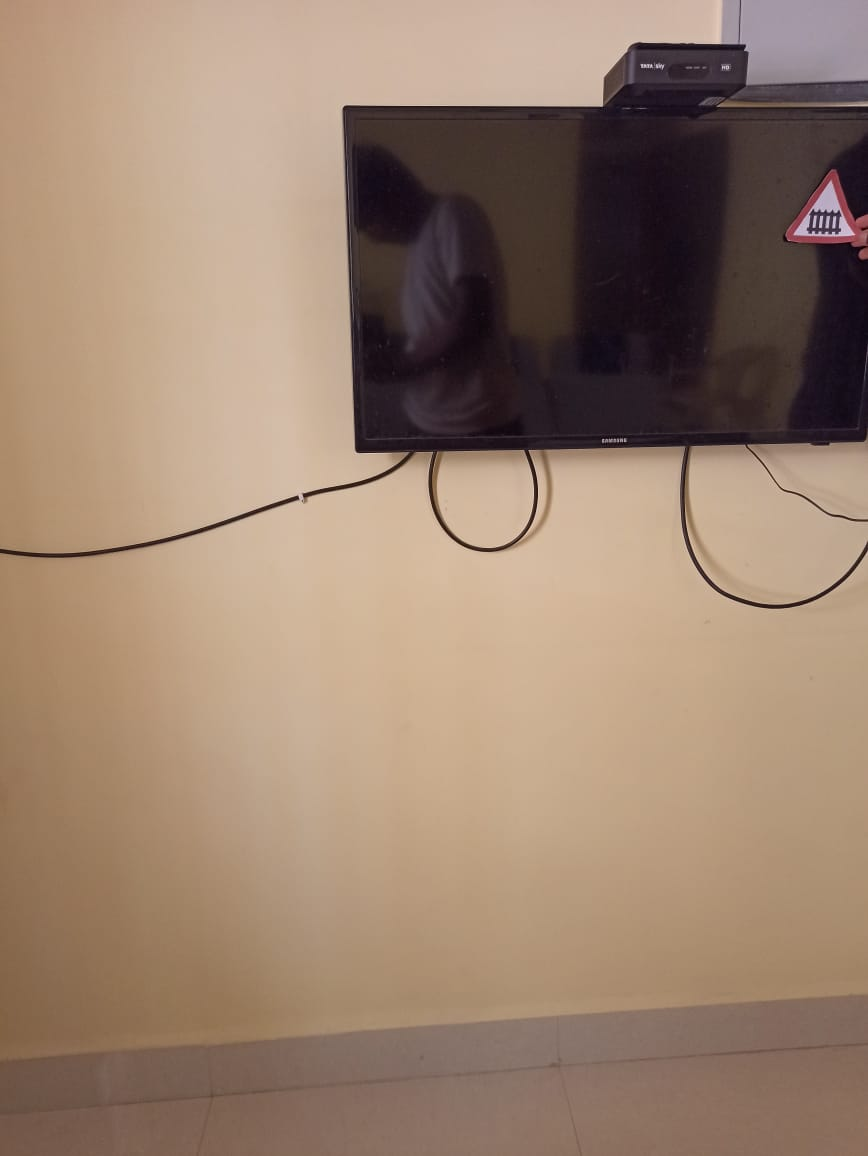GUARDED LEVEL CROSSING: (784, 156, 865, 256)
